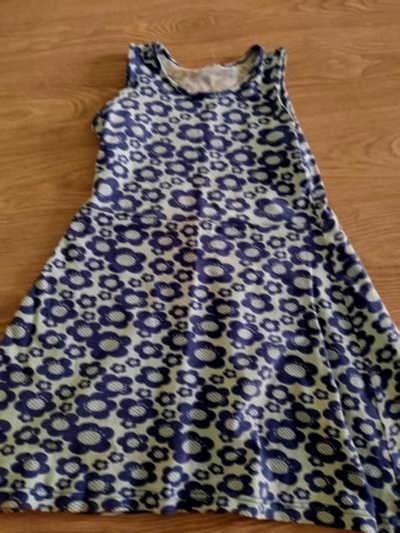Dress: (3, 32, 400, 529)
